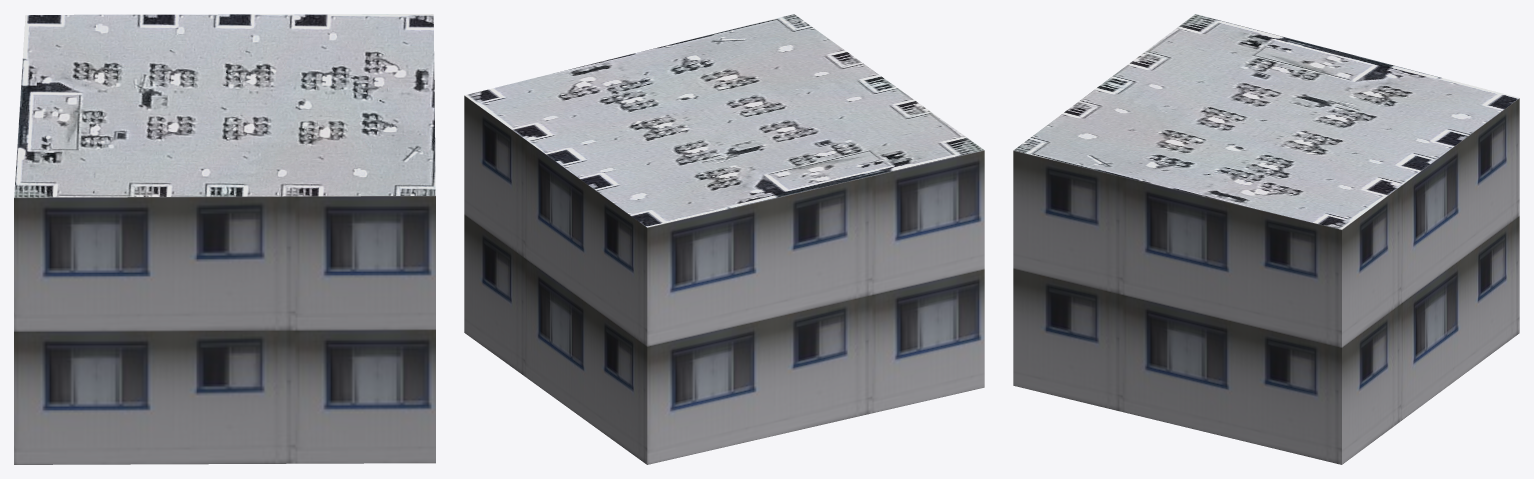
Rendered from ResTex__3642.fbx.
The picture shows the model from 3 angles, left to right: view 1: azimuth 30°, elevation 25°; view 2: azimuth 150°, elevation 25°; view 3: azimuth 270°, elevation 25°; orthographic projection. The views are drawn at different scales.
Parts seen in each view (by area): view 1: CityEngineMaterial_9_m, CityEngineMaterial_4_m; view 2: CityEngineMaterial_9_m, CityEngineMaterial_4_m; view 3: CityEngineMaterial_9_m, CityEngineMaterial_4_m.
Part boxes in pixels (<box>): CityEngineMaterial_9_m: <box>14,196,435,464</box>; CityEngineMaterial_4_m: <box>14,14,435,197</box>; CityEngineMaterial_9_m: <box>464,95,984,464</box>; CityEngineMaterial_4_m: <box>464,14,984,227</box>; CityEngineMaterial_9_m: <box>1013,98,1519,464</box>; CityEngineMaterial_4_m: <box>1013,14,1519,229</box>.
Bounding box in the file's own units: 11.81 × 6 × 11.71.
2 materials, 2 textured.
